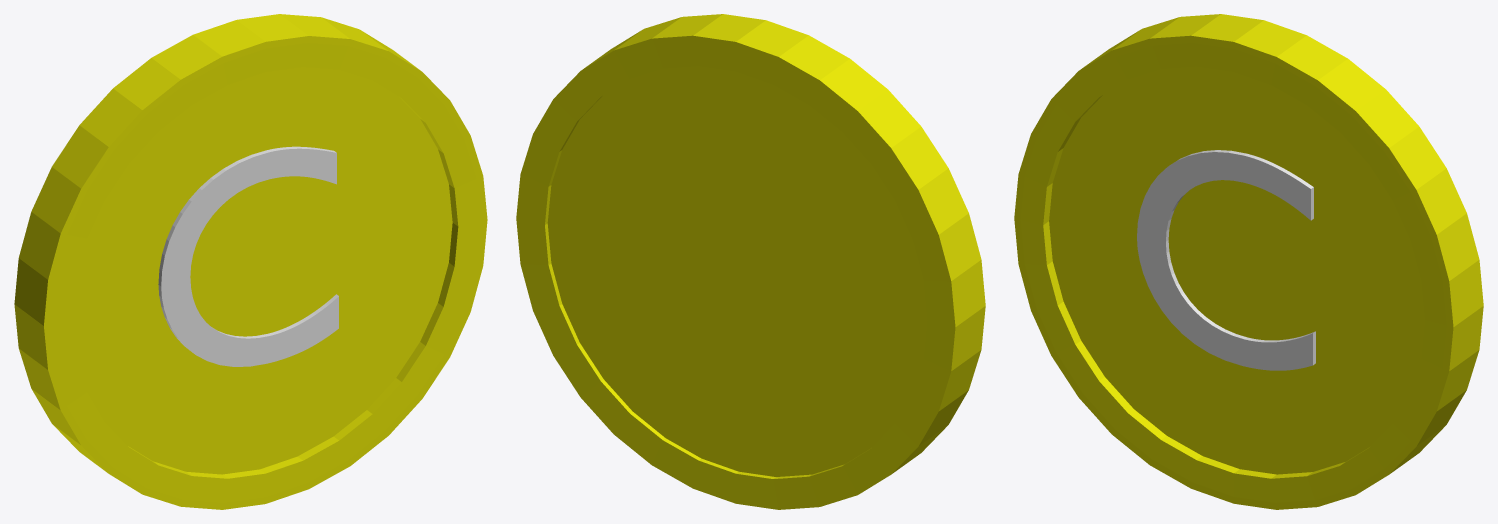
Rendered from Coin.fbx.
3 renders of one model, left to right at view 1: azimuth 30°, elevation 25°; view 2: azimuth 150°, elevation 25°; view 3: azimuth 330°, elevation 25°, orthographic.
Parts seen in each view (by area): view 1: Текст; view 2: Текст; view 3: Текст.
Part boxes in pixels (x1,y1,x2,y2): Текст: [14, 14, 487, 509]; Текст: [516, 14, 985, 509]; Текст: [1014, 14, 1483, 509].
Size of the model in its own units: 435 by 435 by 54.43.
